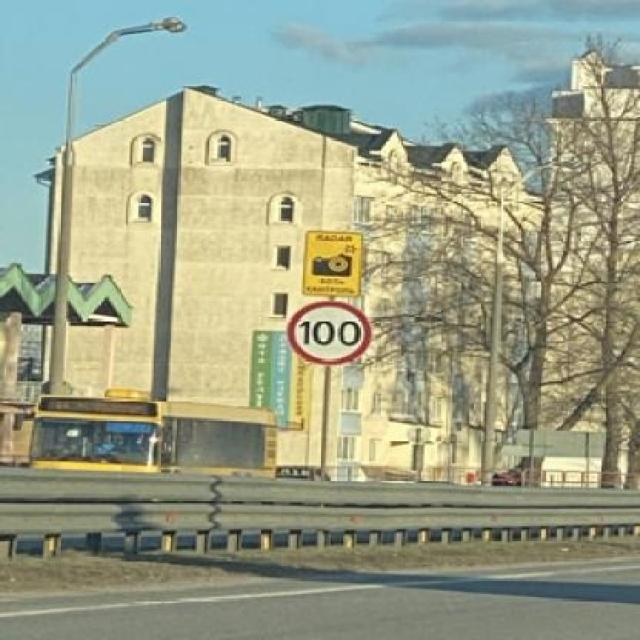forb_speed_over_100: (288, 302, 372, 363)
